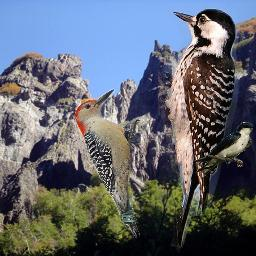Swallow: (191, 122, 253, 176)
Woodpecker: (158, 2, 240, 254), (75, 87, 140, 239)
